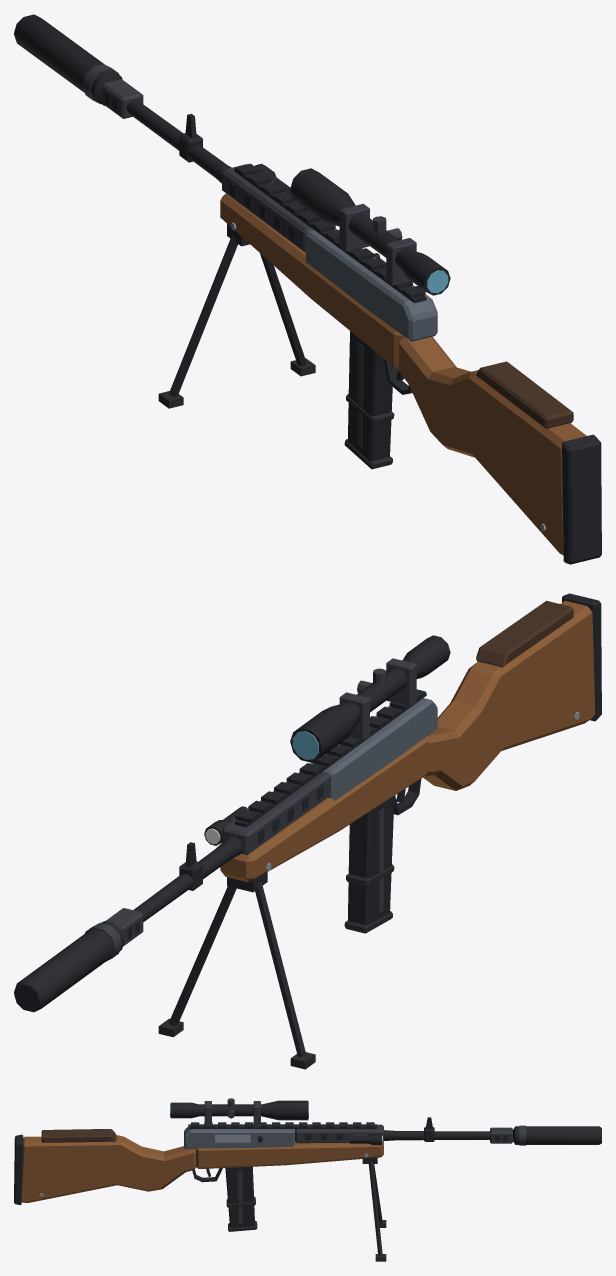
Rendered from marksman_rifle.glb.
The picture shows the model from 3 angles, top to bottom: view 1: azimuth 30°, elevation 25°; view 2: azimuth 150°, elevation 25°; view 3: azimuth 270°, elevation 25°; orthographic projection. The views are drawn at different scales.
Visible parts, largest first — view 1: Body, Att_Scope, Att_ExtMag, Att_Suppressor, Att_Grip, Mag; view 2: Body, Att_Scope, Att_Suppressor, Att_Grip, Att_ExtMag, Mag; view 3: Body, Att_Scope, Att_Suppressor, Mag, Att_ExtMag, Att_Grip, Att_Flashlight.
Boxes of the visible parts, x1=… form: Body: x1=101, y1=79, x2=601, y2=564; Att_Scope: x1=290, y1=168, x2=450, y2=295; Att_ExtMag: x1=344, y1=331, x2=392, y2=469; Att_Suppressor: x1=14, y1=14, x2=122, y2=105; Att_Grip: x1=158, y1=224, x2=315, y2=408; Mag: x1=346, y1=342, x2=394, y2=424; Body: x1=105, y1=593, x2=601, y2=946; Att_Scope: x1=290, y1=635, x2=450, y2=762; Att_Suppressor: x1=14, y1=921, x2=124, y2=1012; Att_Grip: x1=158, y1=872, x2=315, y2=1069; Att_ExtMag: x1=344, y1=796, x2=394, y2=933; Mag: x1=346, y1=802, x2=394, y2=886; Body: x1=14, y1=1117, x2=512, y2=1204; Att_Scope: x1=170, y1=1098, x2=308, y2=1126; Att_Suppressor: x1=513, y1=1125, x2=601, y2=1145; Mag: x1=226, y1=1166, x2=255, y2=1207; Att_ExtMag: x1=225, y1=1166, x2=257, y2=1231; Att_Grip: x1=362, y1=1157, x2=386, y2=1261; Att_Flashlight: x1=349, y1=1134, x2=382, y2=1145.
Size of the model in its own units: 0.2 by 0.3548 by 1.32.
